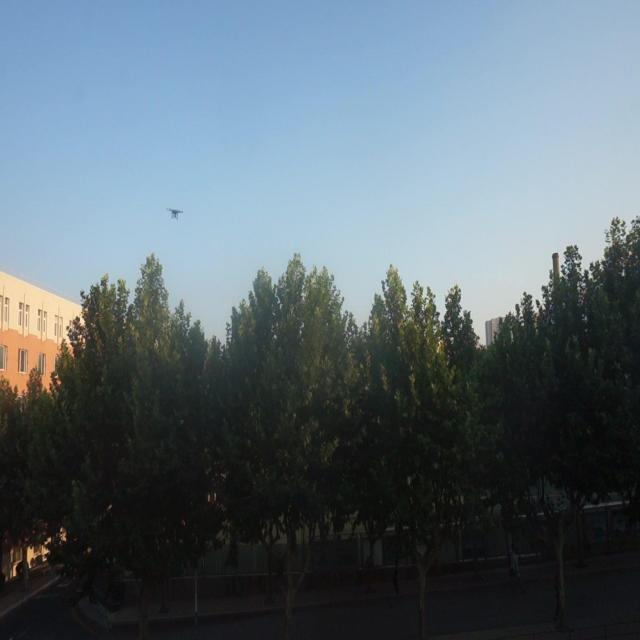drone: (168, 206, 184, 223)
